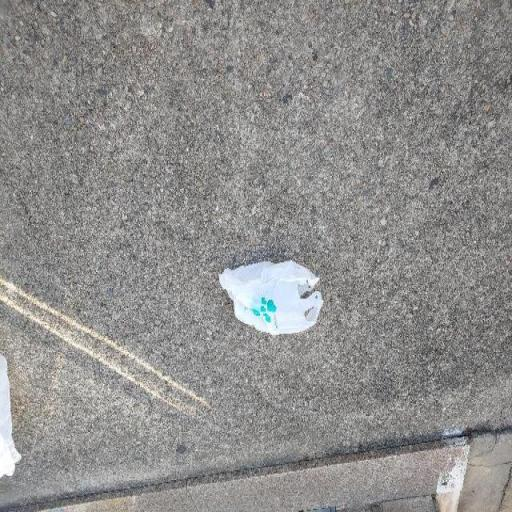plastic-bag: (215, 256, 322, 335)
